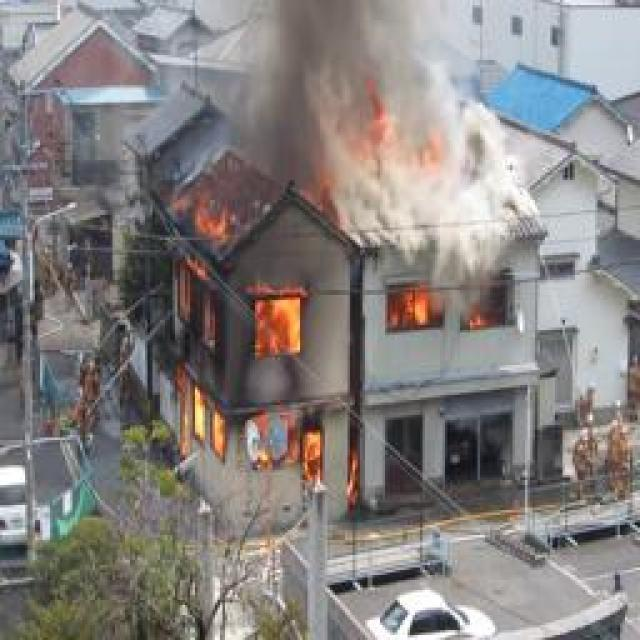Fire: (171, 188, 338, 484), (386, 290, 444, 328)
